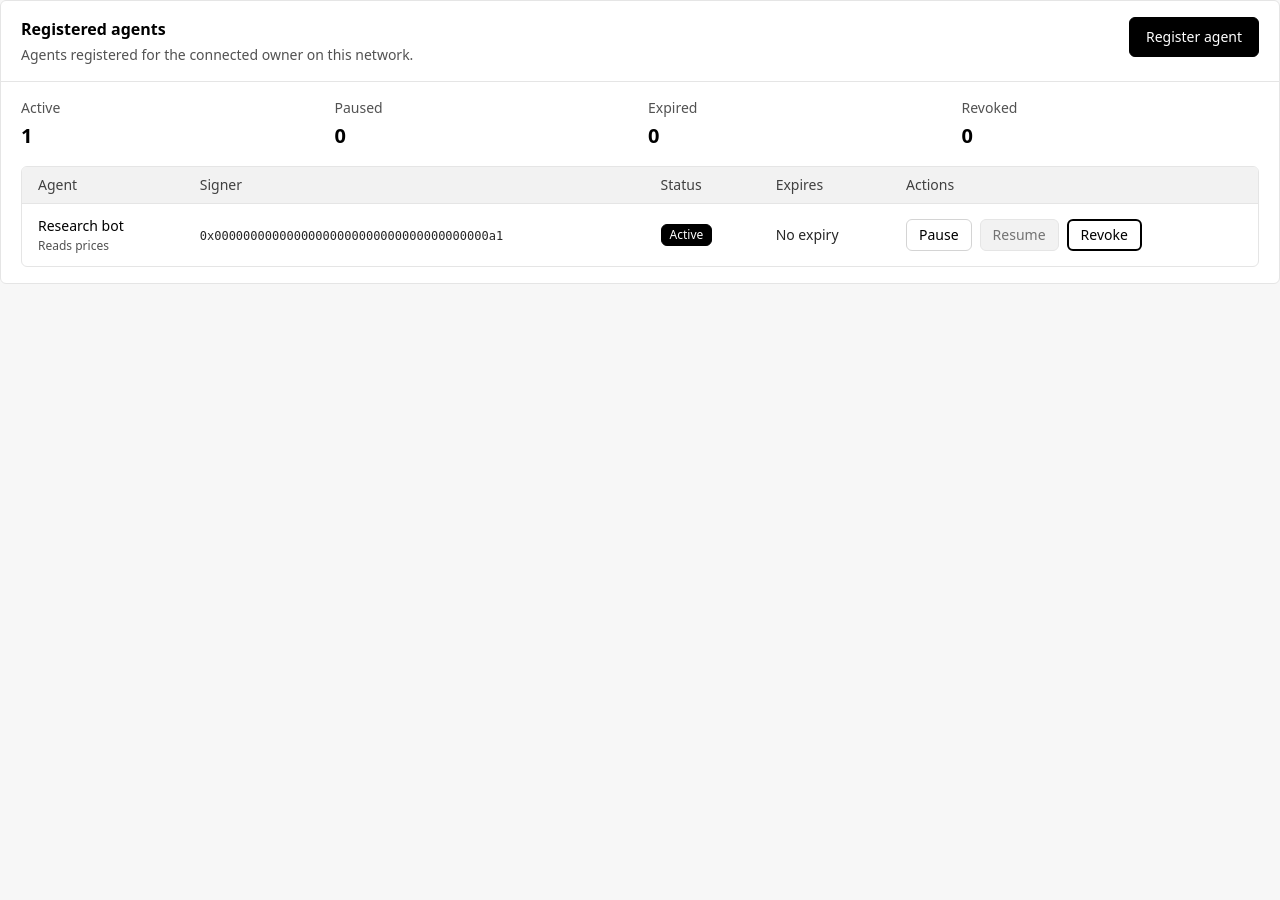
Test case: AgentRegistry › shows an error and no success toast when a transition is refused
Click the button with aria-label "Pause Research bot".
click(939, 235)  # box [906,219,972,251]
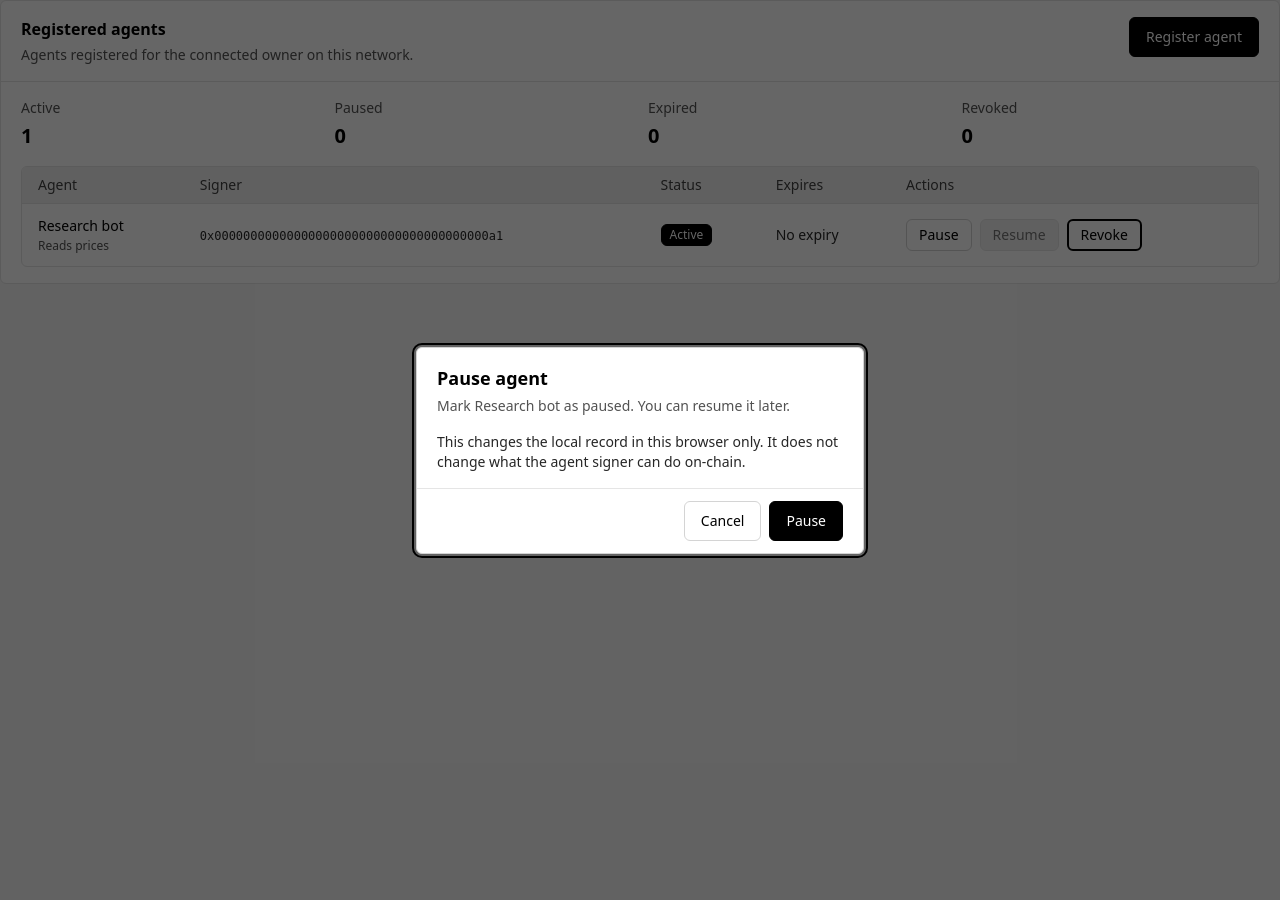
Click the button "Pause".
click(806, 520)  # box [769,500,843,540]
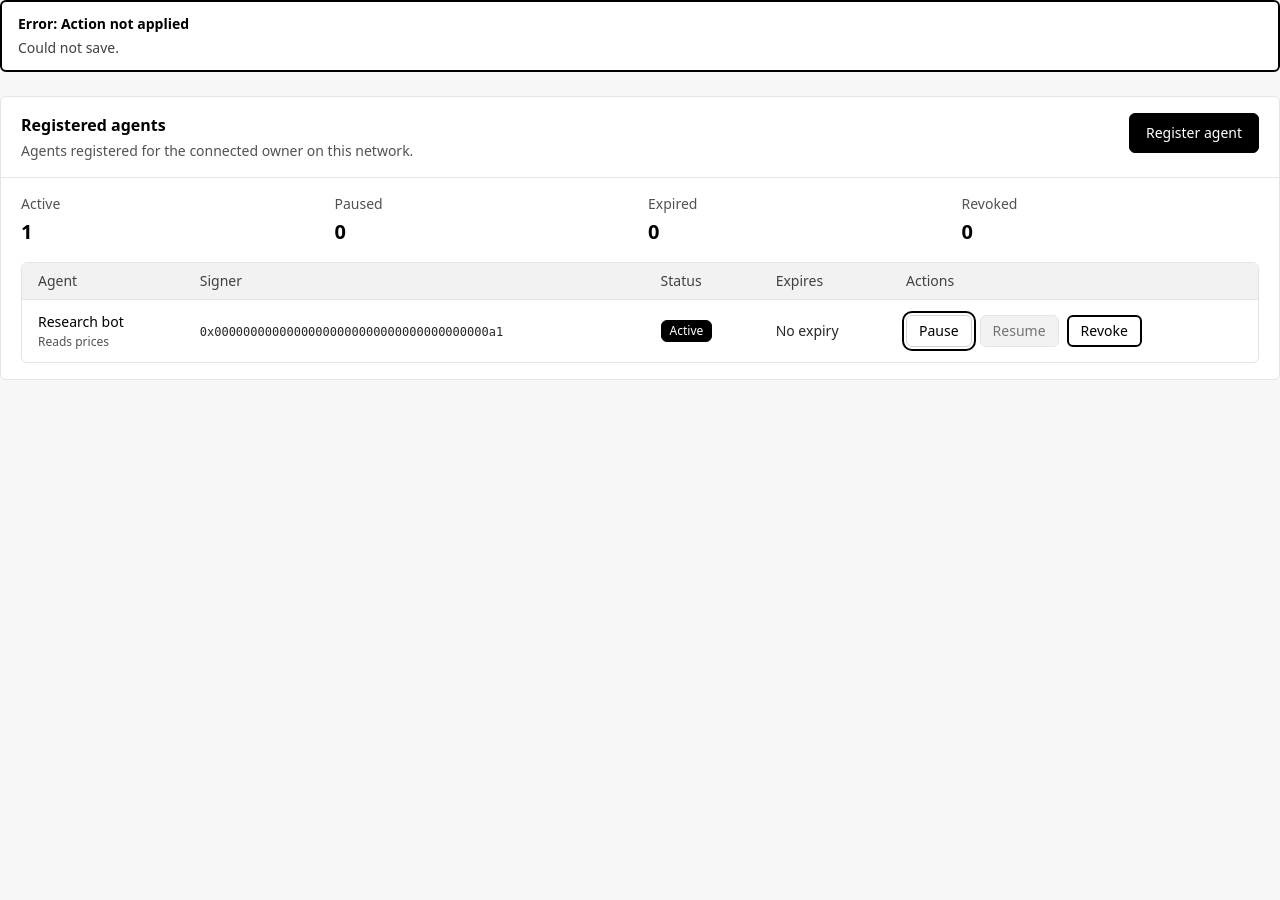
Expected: the text "Could not save." is shown, [18,38,119,57]
